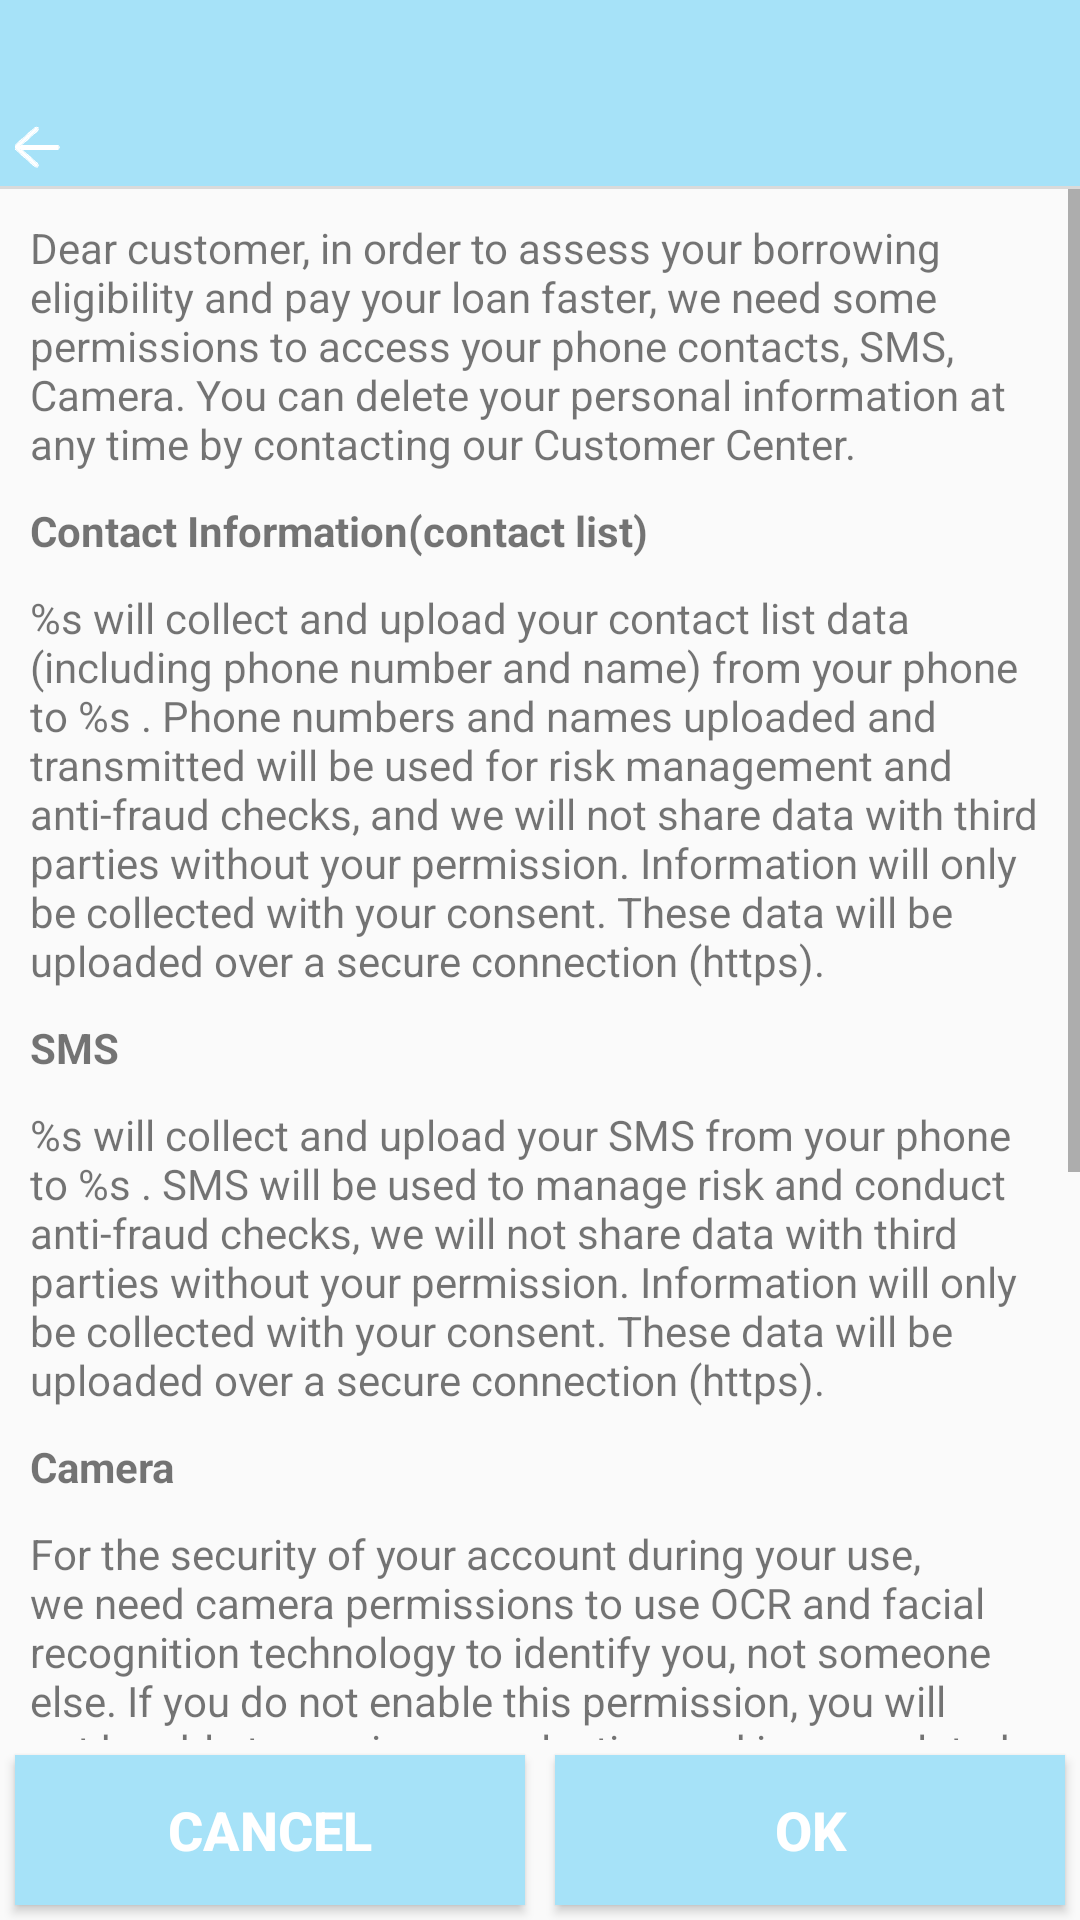

Icons on this 1080 × 1920 Android screen, each with the point to tap as [x,y]:
paisa back: [37,147]
